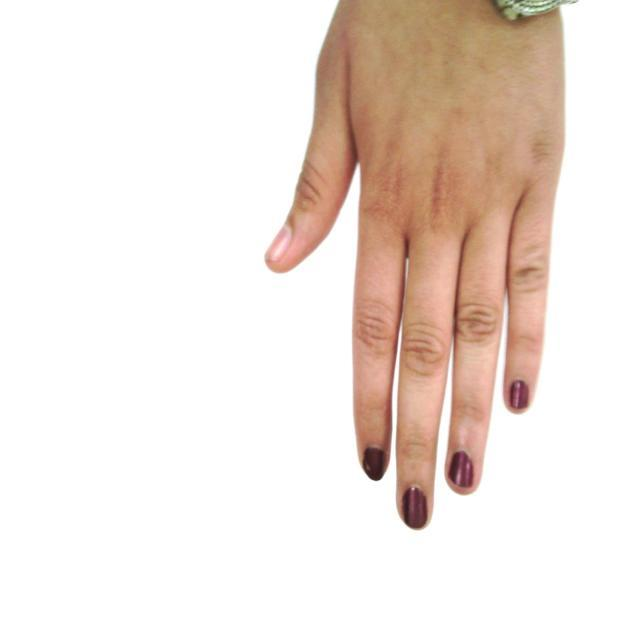Fingernail: (402, 487, 427, 529), (265, 224, 293, 261), (448, 450, 474, 487), (363, 447, 384, 481), (510, 380, 528, 409)
